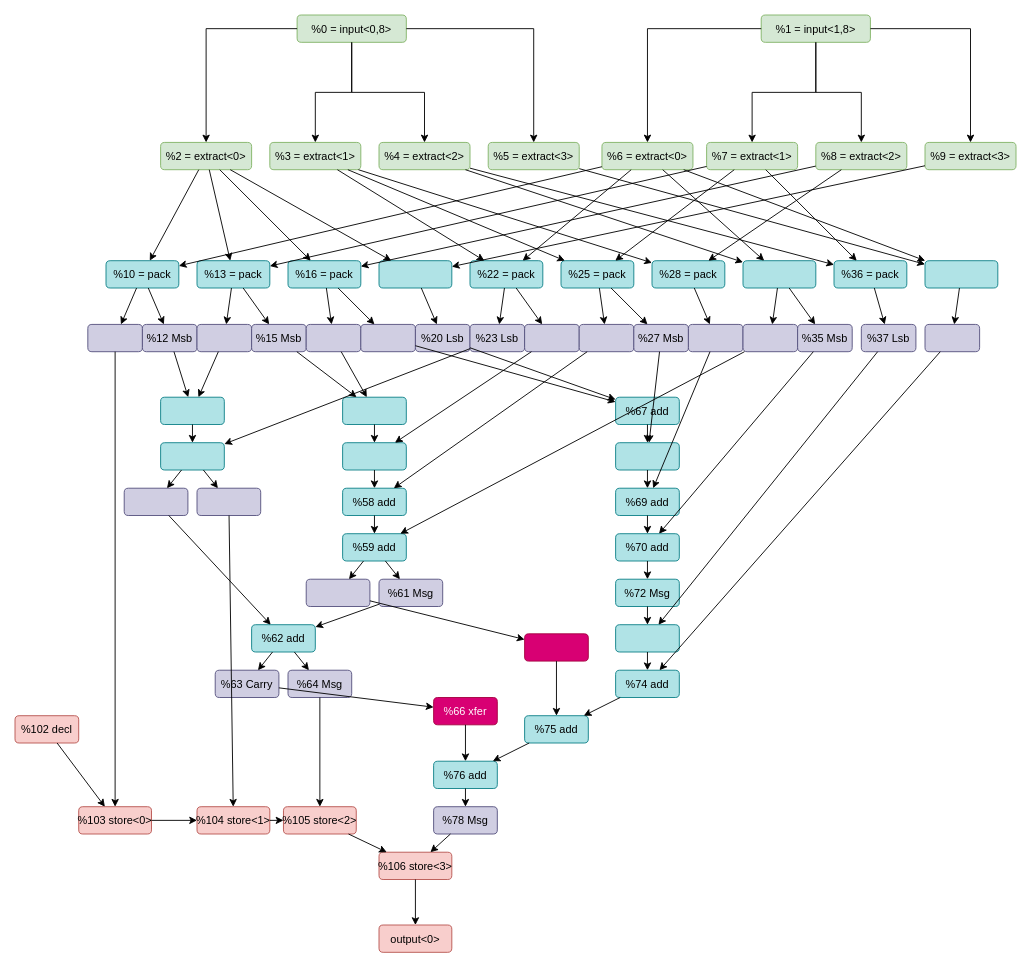
Image size: 1031x967. Some labels were removed from this diagram. The centre of each missing label's shape, as x and y in pixels:
%11 Lsb: the point at 114,338
%14 Lsb: the point at 224,338
%17 Lsb: the point at 333,338
%18 Msb: the point at 387,338
%19 = pack: the point at 415,274
%24 Msb: the point at 551,338
%26 Lsb: the point at 606,338
%29 Lsb: the point at 715,338
%33 = pack: the point at 779,274
%34 Lsb: the point at 770,338
%43 = pack: the point at 961,274
%44 Lsb: the point at 952,338
%52 add: the point at 192,410
%53 add: the point at 192,456
%54 Carry: the point at 155,501
%55 Msg: the point at 228,501
%56 add: the point at 374,410
%57 add: the point at 374,456
%60 Carry: the point at 337,592
%65 xfer: the point at 556,647
%68 add: the point at 647,456
%73 add: the point at 647,638
